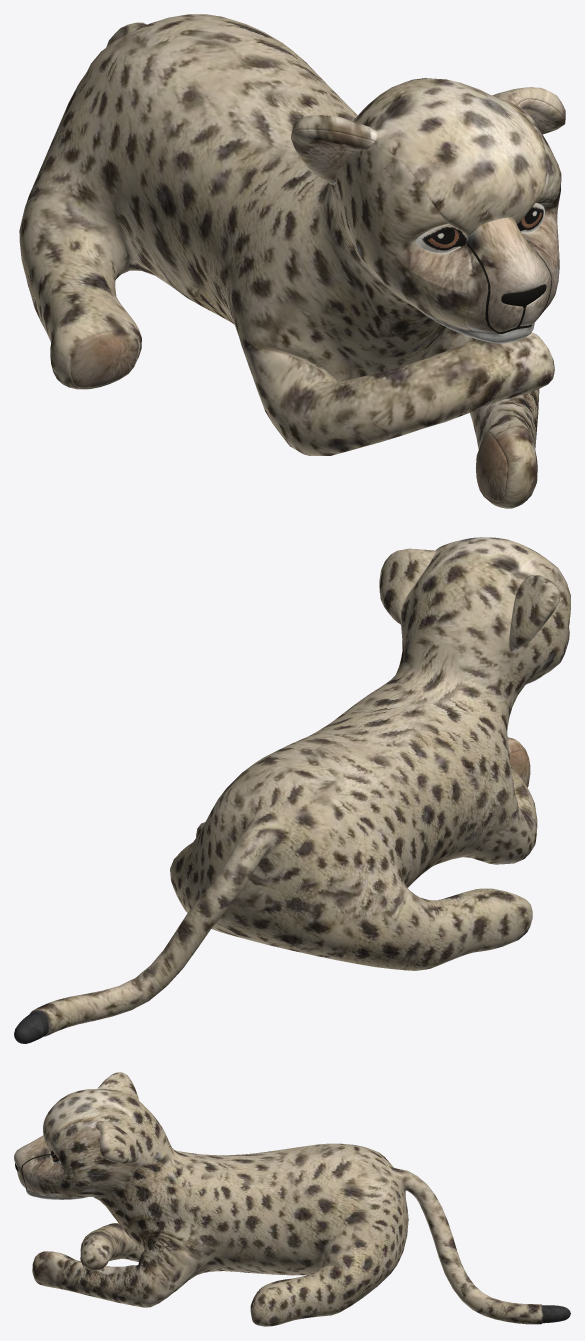
File: sandlopare_pluszak_50603060.glb
3 views of the same model, one above another, from view 1: azimuth 30°, elevation 25°; view 2: azimuth 150°, elevation 25°; view 3: azimuth 270°, elevation 25° (orthographic). The views are drawn at different scales.
Parts seen in each view (by area): view 1: sandlopare_pluszak_50603060; view 2: sandlopare_pluszak_50603060; view 3: sandlopare_pluszak_50603060.
Part boxes in pixels (x1,y1,x2,y2): sandlopare_pluszak_50603060: (19, 14, 565, 508); sandlopare_pluszak_50603060: (14, 537, 570, 1043); sandlopare_pluszak_50603060: (14, 1072, 570, 1326).
Bounding box in the file's own units: 0.2841 × 0.2312 × 0.6078.
Materials: 3 (3 with a texture image).
